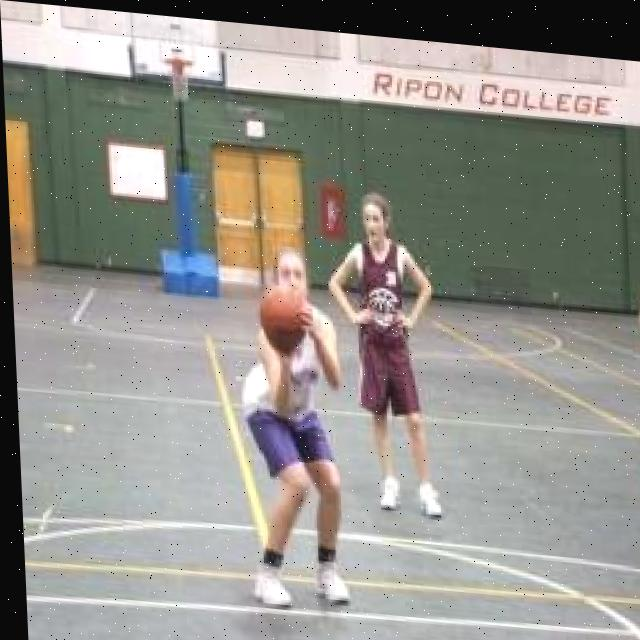basketball: (259, 281, 312, 356)
hoop: (163, 54, 198, 105)
